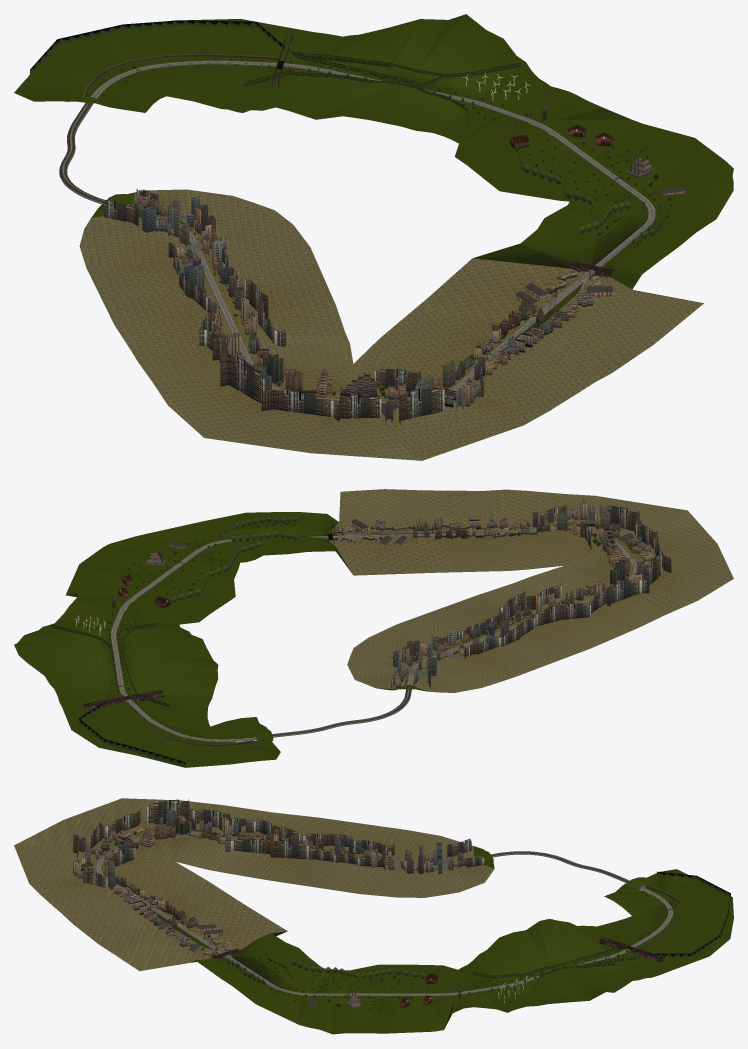
The model's file is highway-battle.glb.
3 views of the same model, one above another, from view 1: azimuth 30°, elevation 25°; view 2: azimuth 150°, elevation 25°; view 3: azimuth 270°, elevation 25° (orthographic). The views are drawn at different scales.
Parts seen in each view (by area): view 1: DC_5.008, DC_4c.008, DC_6a.009, DC_2a.008, DC_16.010, DC_13a.017, DC_11c.011, DC_11b.008, DC_11e.012, DC_17.010, DC_12.012, DC_11d.006 (+36 smaller); view 2: DC_5.008, DC_2a.008, DC_6a.009, DC_16.010, DC_18.009, DC_11e.012, DC_13a.017, DC_4c.008, DC_6, DC_15.010, DC_11c.011, DC_12.012 (+31 smaller); view 3: DC_4c.008, DC_5.008, DC_2a.008, DC_18.009, DC_6a.009, DC_13a.017, DC_16.010, DC_13.016, DC_11b.008, DC_11e.012, DC_11c.011, DC_15.010 (+34 smaller).
Boxes of the visible parts, bbox=[...] form: DC_5.008: bbox=[251, 14, 465, 119]; DC_4c.008: bbox=[317, 14, 516, 126]; DC_6a.009: bbox=[175, 19, 313, 108]; DC_2a.008: bbox=[467, 124, 694, 191]; DC_16.010: bbox=[450, 258, 703, 323]; DC_13a.017: bbox=[370, 337, 594, 411]; DC_11c.011: bbox=[100, 276, 335, 324]; DC_11b.008: bbox=[86, 247, 323, 296]; DC_11e.012: bbox=[131, 332, 353, 380]; DC_17.010: bbox=[521, 218, 678, 289]; DC_12.012: bbox=[152, 364, 361, 437]; DC_11d.006: bbox=[114, 306, 344, 350]; DC_5.008: bbox=[14, 644, 218, 687]; DC_2a.008: bbox=[67, 564, 235, 614]; DC_6a.009: bbox=[62, 701, 207, 747]; DC_16.010: bbox=[327, 489, 392, 575]; DC_18.009: bbox=[146, 512, 287, 561]; DC_11e.012: bbox=[515, 565, 665, 634]; DC_13a.017: bbox=[502, 489, 566, 570]; DC_4c.008: bbox=[14, 630, 212, 659]; DC_6: bbox=[49, 678, 214, 708]; DC_15.010: bbox=[383, 489, 431, 574]; DC_11c.011: bbox=[438, 595, 589, 663]; DC_12.012: bbox=[565, 557, 733, 614]; DC_4c.008: bbox=[487, 930, 605, 1003]; DC_5.008: bbox=[526, 919, 638, 992]; DC_2a.008: bbox=[359, 964, 433, 1033]; DC_18.009: bbox=[219, 948, 319, 1024]; DC_6a.009: bbox=[597, 921, 729, 971]; DC_13a.017: bbox=[40, 873, 207, 913]; DC_16.010: bbox=[117, 918, 287, 971]; DC_13.016: bbox=[22, 861, 194, 893]; DC_11b.008: bbox=[314, 823, 407, 893]; DC_11e.012: bbox=[175, 805, 274, 873]; DC_11c.011: bbox=[268, 817, 361, 886]; DC_15.010: bbox=[98, 906, 266, 955].
Bounding box in the file's own units: 5525 × 364 × 7290.
Materials: 62 (61 with a texture image).
